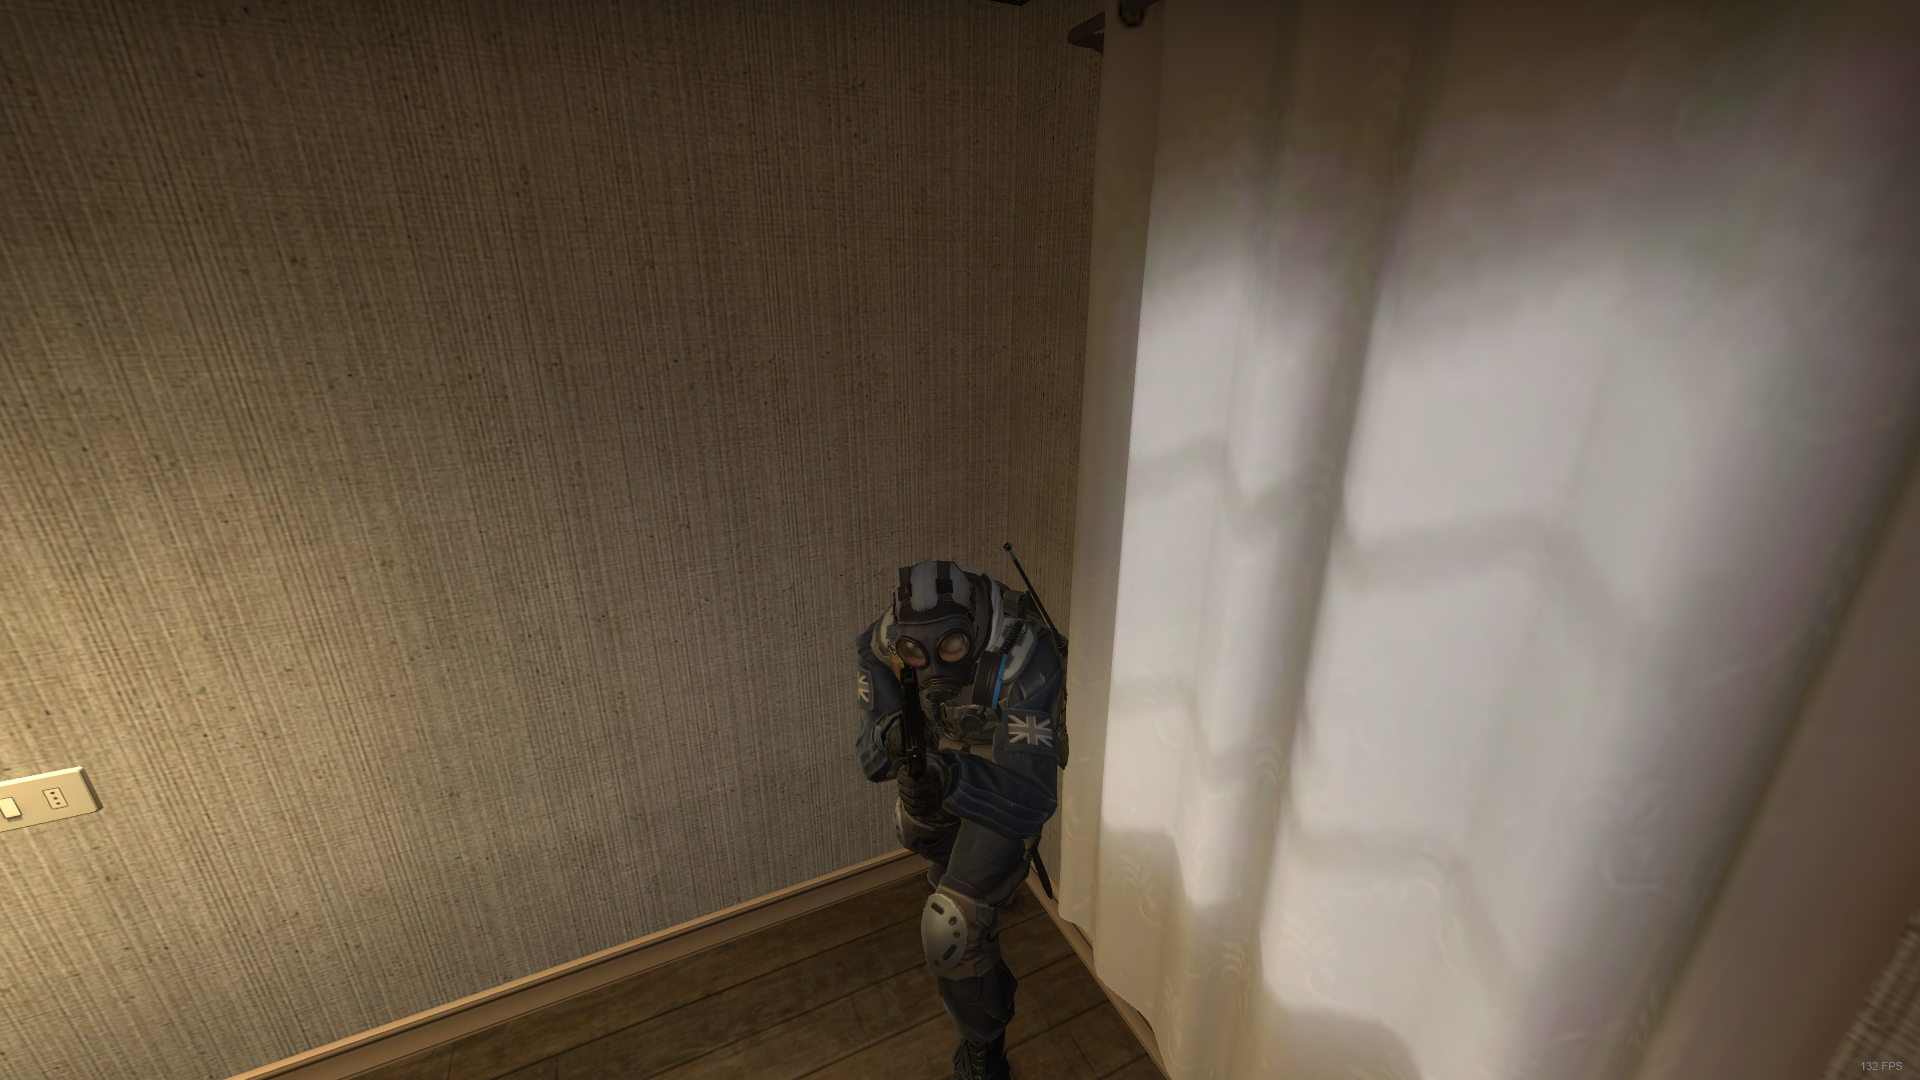ct: (814, 539, 1092, 1080)
